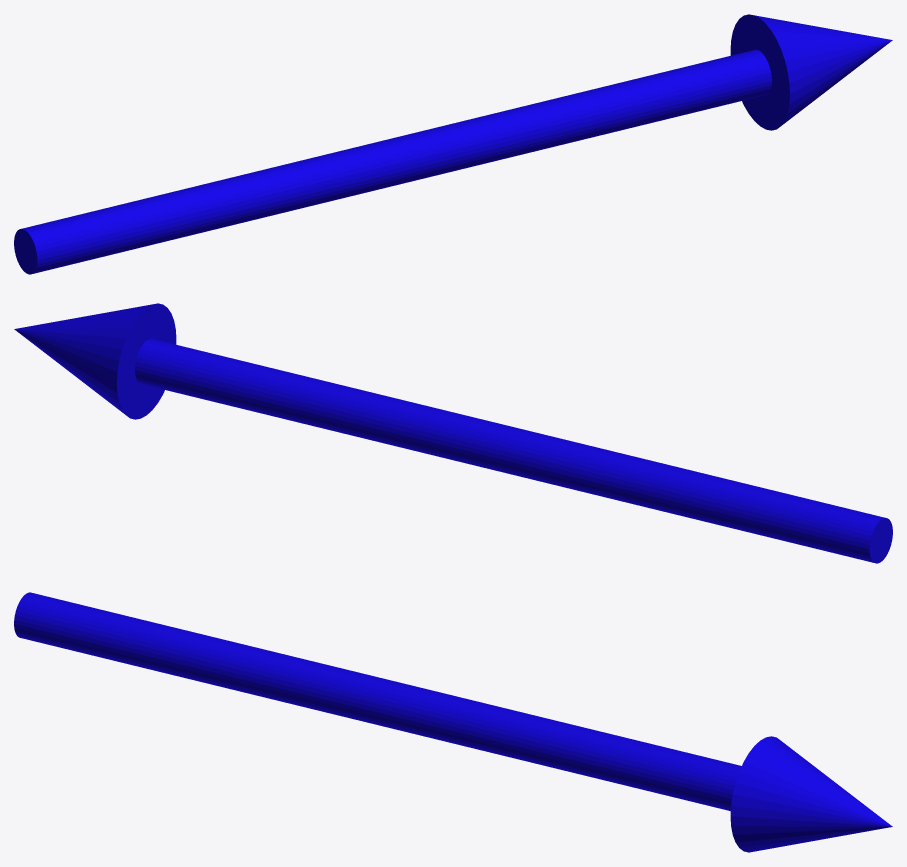
Rendered from TransforGizmo_Z_Translation.fbx.
3 views of the same model, one above another, from view 1: azimuth 30°, elevation 25°; view 2: azimuth 150°, elevation 25°; view 3: azimuth 330°, elevation 25° (orthographic).
Visible parts, largest first — view 1: Cylinder; view 2: Cylinder; view 3: Cylinder.
Boxes of the visible parts, x1=… form: Cylinder: x1=14, y1=14, x2=892, y2=274; Cylinder: x1=14, y1=303, x2=892, y2=563; Cylinder: x1=14, y1=592, x2=892, y2=852.
Size of the model in its own units: 118 by 14.03 by 14.03.
